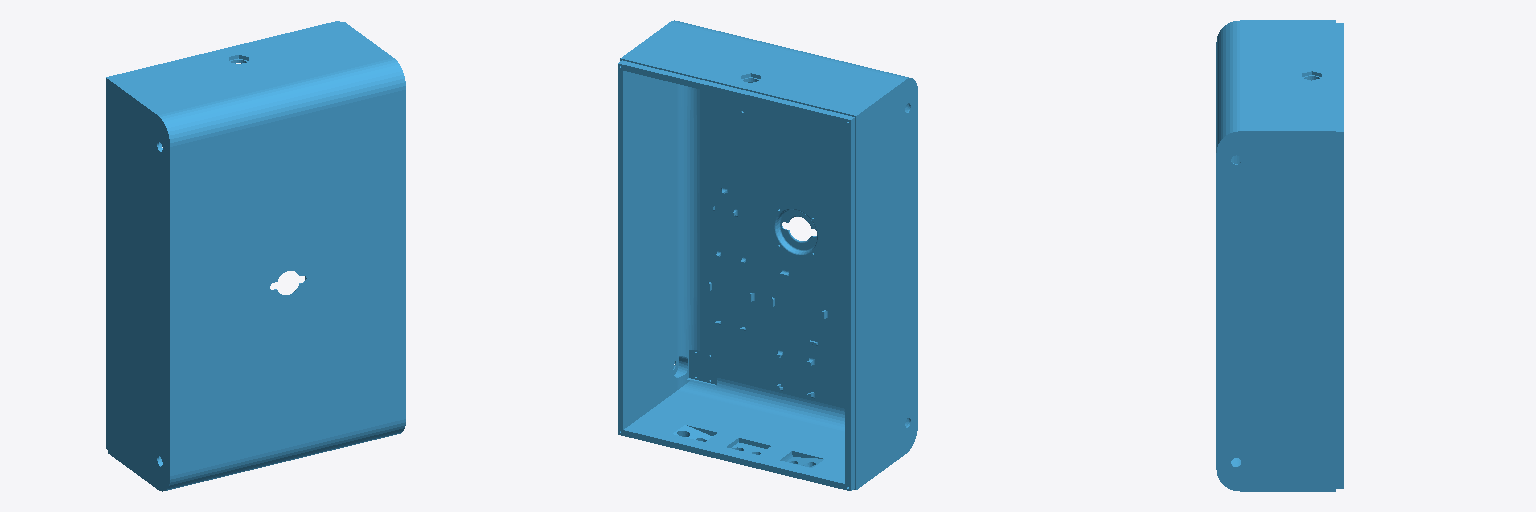
robot.urdf — differential_drive_robot:
<?xml version="1.0" ?>
<!-- =================================================================================== -->
<!-- |    This document was autogenerated by xacro from src/lawn_robot/model/robot.xacro | -->
<!-- |    EDITING THIS FILE BY HAND IS NOT RECOMMENDED                                 | -->
<!-- =================================================================================== -->
<robot name="differential_drive_robot">
  <gazebo reference="body_link">
    <mu1>0.2</mu1>
    <mu2>0.2</mu2>
    <material>
        Gazebo/Grey
    </material>
  </gazebo>
  <gazebo reference="wheel1_link">
    <mu1>0.2</mu1>
    <mu2>0.2</mu2>
    <material>
        Gazebo/DarkGrey
    </material>
  </gazebo>
  <gazebo reference="wheel2_link">
    <mu1>0.2</mu1>
    <mu2>0.2</mu2>
    <material>
        Gazebo/DarkGrey
    </material>
  </gazebo>
  <gazebo reference="wheel3_link">
    <mu1>0.2</mu1>
    <mu2>0.2</mu2>
    <material>
        Gazebo/DarkGrey
    </material>
  </gazebo>
  <gazebo reference="wheel4_link">
    <mu1>0.2</mu1>
    <mu2>0.2</mu2>
    <material>
        Gazebo/DarkGrey
    </material>
  </gazebo>
  <gazebo>
    <plugin filename="libgazebo_ros_diff_drive.so" name="skid_steer_drive">
      <ros>
        <namespace> </namespace>
      </ros>
      <!-- Number of wheel pairs -->
      <num_wheel_pairs>2</num_wheel_pairs>
      <!-- Wheels0 -->
      <left_joint>wheel4_joint</left_joint>
      <right_joint>wheel3_joint</right_joint>
      <!-- Wheels1 -->
      <left_joint>wheel2_joint</left_joint>
      <right_joint>wheel1_joint</right_joint>
      <!-- Kinematics -->
      <wheel_separation>0.36</wheel_separation>
      <wheel_separation>0.36</wheel_separation>
      <wheel_diameter>0.1</wheel_diameter>
      <wheel_diameter>0.1</wheel_diameter>
      <!-- Limits -->
      <max_wheel_torque>1000</max_wheel_torque>
      <max_wheel_acceleration>5.0</max_wheel_acceleration>
      <!-- Output -->
      <publish_odom>true</publish_odom>
      <publish_odom_tf>true</publish_odom_tf>
      <publish_wheel_tf>true</publish_wheel_tf>
      <odometry_frame>odom</odometry_frame>
      <robot_base_frame>dummy</robot_base_frame>
    </plugin>
  </gazebo>
  <!-- ########################################## -->
  <!--         Links and Joints Definition        -->
  <!-- ########################################## -->
  <!-- Dummy link, otherwise Gazebo will complain -->
  <link name="dummy">
</link>
  <joint name="dummy_joint" type="fixed">
    <parent link="dummy"/>
    <child link="body_link"/>
  </joint>
  <!-- ########################################## -->
  <!--           Body Link of the robot           -->
  <!-- ########################################## -->
  <link name="body_link">
    <visual>
      <geometry>
        <mesh filename="package://lawn_robot/meshes/base_link.stl" scale="1 1 1"/>
      </geometry>
      <origin rpy="0.0 0.0 0.0" xyz="0.0 0.0 0.0"/>
    </visual>
    <collision>
      <geometry>
        <box size="0.5 0.33 0.16"/>
      </geometry>
      <origin rpy="0.0 0.0 0.0" xyz="0.0 0.0 0.0"/>
    </collision>
    <inertial>
      <origin rpy="0.0 0.0 0.0" xyz="0.0 0.0 0.0"/>
      <mass value="1.8"/>
      <inertia ixx="0.020175000000000002" ixy="0" ixz="0" iyy="0.04134" iyz="0" izz="0.053835"/>
    </inertial>
  </link>
  <!-- ########################################## -->
  <!--        Back Right Wheel of the robot       -->
  <!-- ########################################## -->
  <joint name="wheel1_joint" type="continuous">
    <parent link="body_link"/>
    <child link="wheel1_link"/>
    <origin rpy="0.0 0.0 0.0" xyz="-0.13 -0.185 0.1"/>
    <axis xyz="0 1 0"/>
    <limit effort="1000" velocity="1000"/>
    <dynamics damping="1.0" friction="1.0"/>
  </joint>
  <link name="wheel1_link">
    <visual>
      <origin rpy="1.570796325 0 0" xyz="0.0 0.0 0.0"/>
      <geometry>
        <cylinder length="0.03" radius="0.1"/>
      </geometry>
    </visual>
    <collision>
      <origin rpy="1.570796325 0 0" xyz="0.0 0.0 0.0"/>
      <geometry>
        <cylinder length="0.03" radius="0.1"/>
      </geometry>
    </collision>
    <inertial>
      <origin rpy="0.0 0.0 0.0" xyz="0.0 0.0 0.0"/>
      <mass value="0.31"/>
      <inertia ixx="0.0007982500000000001" ixy="0.0" ixz="0.0" iyy="0.0007982500000000001" iyz="0.0" izz="0.0015500000000000002"/>
    </inertial>
  </link>
  <!-- ########################################## -->
  <!--        Back Left Wheel of the robot       -->
  <!-- ########################################## -->
  <joint name="wheel2_joint" type="continuous">
    <parent link="body_link"/>
    <child link="wheel2_link"/>
    <origin rpy="0.0 0.0 0.0" xyz="-0.13 0.185 0.1"/>
    <axis xyz="0 1 0"/>
    <limit effort="1000" velocity="1000"/>
    <dynamics damping="1.0" friction="1.0"/>
  </joint>
  <link name="wheel2_link">
    <visual>
      <origin rpy="1.570796325 0 0" xyz="0.0 0.0 0.0"/>
      <geometry>
        <cylinder length="0.03" radius="0.1"/>
      </geometry>
    </visual>
    <collision>
      <origin rpy="1.570796325 0 0" xyz="0.0 0.0 0.0"/>
      <geometry>
        <cylinder length="0.03" radius="0.1"/>
      </geometry>
    </collision>
    <inertial>
      <origin rpy="0.0 0.0 0.0" xyz="0.0 0.0 0.0"/>
      <mass value="0.31"/>
      <inertia ixx="0.0007982500000000001" ixy="0.0" ixz="0.0" iyy="0.0007982500000000001" iyz="0.0" izz="0.0015500000000000002"/>
    </inertial>
  </link>
  <!-- ########################################## -->
  <!--        Front Right Wheel of the robot       -->
  <!-- ########################################## -->
  <joint name="wheel3_joint" type="continuous">
    <parent link="body_link"/>
    <child link="wheel3_link"/>
    <origin rpy="0.0 0.0 0.0" xyz="0.13 -0.185 0.1"/>
    <axis xyz="0 1 0"/>
    <limit effort="1000" velocity="1000"/>
    <dynamics damping="1.0" friction="1.0"/>
  </joint>
  <link name="wheel3_link">
    <visual>
      <origin rpy="1.570796325 0 0" xyz="0.0 0.0 0.0"/>
      <geometry>
        <cylinder length="0.03" radius="0.1"/>
      </geometry>
    </visual>
    <collision>
      <origin rpy="1.570796325 0 0" xyz="0.0 0.0 0.0"/>
      <geometry>
        <cylinder length="0.03" radius="0.1"/>
      </geometry>
    </collision>
    <inertial>
      <origin rpy="0.0 0.0 0.0" xyz="0.0 0.0 0.0"/>
      <mass value="0.31"/>
      <inertia ixx="0.0007982500000000001" ixy="0.0" ixz="0.0" iyy="0.0007982500000000001" iyz="0.0" izz="0.0015500000000000002"/>
    </inertial>
  </link>
  <!-- ########################################## -->
  <!--        Front Right Wheel of the robot       -->
  <!-- ########################################## -->
  <joint name="wheel4_joint" type="continuous">
    <parent link="body_link"/>
    <child link="wheel4_link"/>
    <origin rpy="0.0 0.0 0.0" xyz="0.13 0.185 0.1"/>
    <axis xyz="0 1 0"/>
    <limit effort="1000" velocity="1000"/>
    <dynamics damping="1.0" friction="1.0"/>
  </joint>
  <link name="wheel4_link">
    <visual>
      <origin rpy="1.570796325 0 0" xyz="0.0 0.0 0.0"/>
      <geometry>
        <cylinder length="0.03" radius="0.1"/>
      </geometry>
    </visual>
    <collision>
      <origin rpy="1.570796325 0 0" xyz="0.0 0.0 0.0"/>
      <geometry>
        <cylinder length="0.03" radius="0.1"/>
      </geometry>
    </collision>
    <inertial>
      <origin rpy="0.0 0.0 0.0" xyz="0.0 0.0 0.0"/>
      <mass value="0.31"/>
      <inertia ixx="0.0007982500000000001" ixy="0.0" ixz="0.0" iyy="0.0007982500000000001" iyz="0.0" izz="0.0015500000000000002"/>
    </inertial>
  </link>
</robot>

--- Render facts (derived) ---
3 views of the same robot in one strip: view 1: azimuth 30°, elevation 25°; view 2: azimuth 150°, elevation 25°; view 3: azimuth 270°, elevation 25° (orthographic).
Model differential_drive_robot with 6 links and 5 joints (4 continuous, 1 fixed), rooted at dummy, posed every joint at zero.
Links seen in each view (by area): view 1: body_link; view 2: body_link; view 3: body_link.
Boxes of the visible links, bbox=[...] form: body_link: bbox=[106, 21, 405, 491]; body_link: bbox=[618, 20, 917, 490]; body_link: bbox=[1216, 20, 1343, 491].
Bounding box of the posed robot: 330 × 160 × 500 m (x, y, z).
Meshes: 1 distinct files referenced, 1 mesh visuals loaded (1 binary STL).